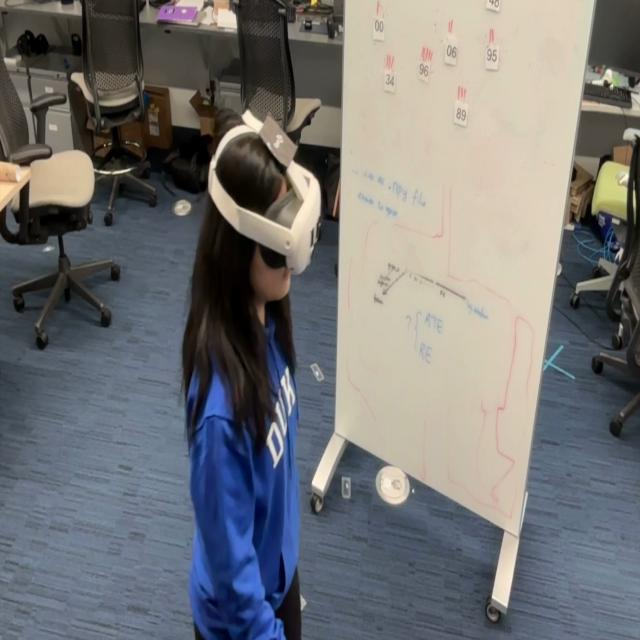Headset: (206, 110, 323, 276)
UnityLogo: (257, 110, 298, 170)
